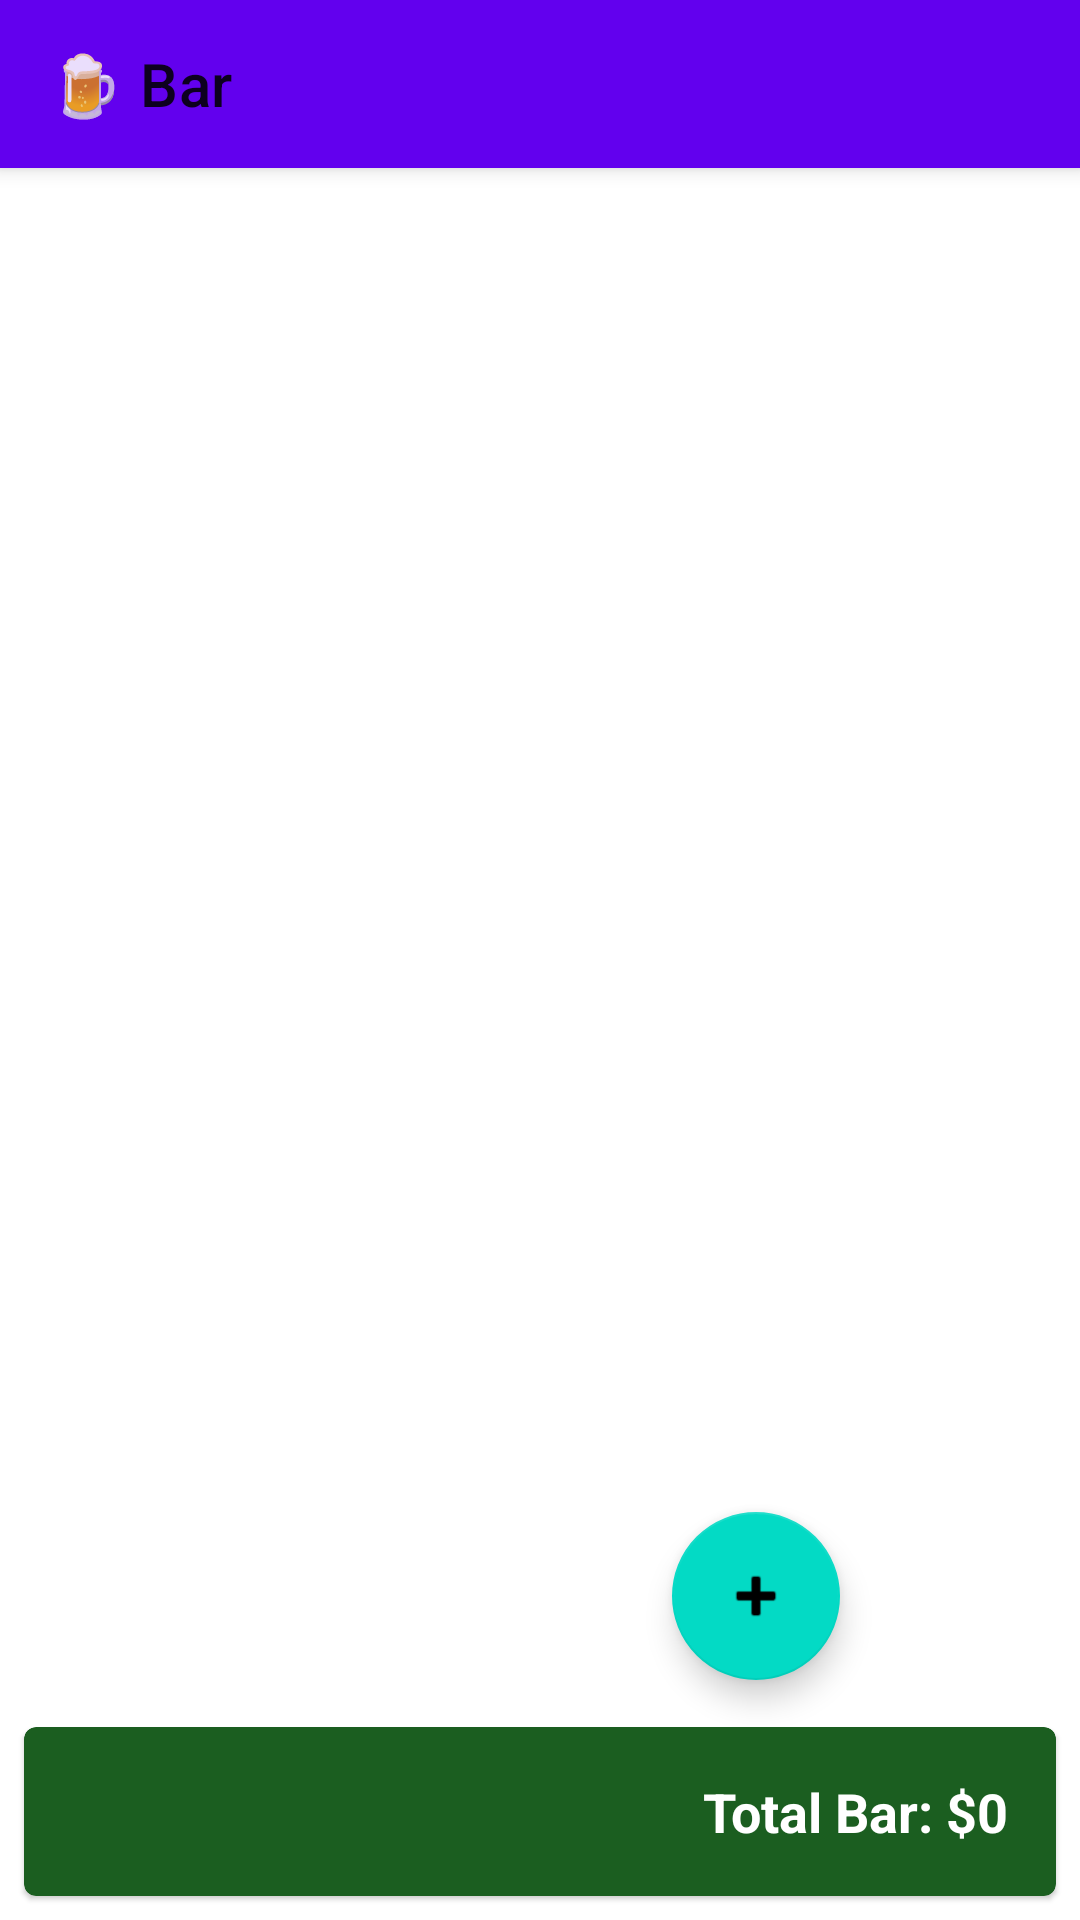

Named icons in this screenshot (1080 × 1920) and their centers, point (x, y):
add: point (756, 1596)
